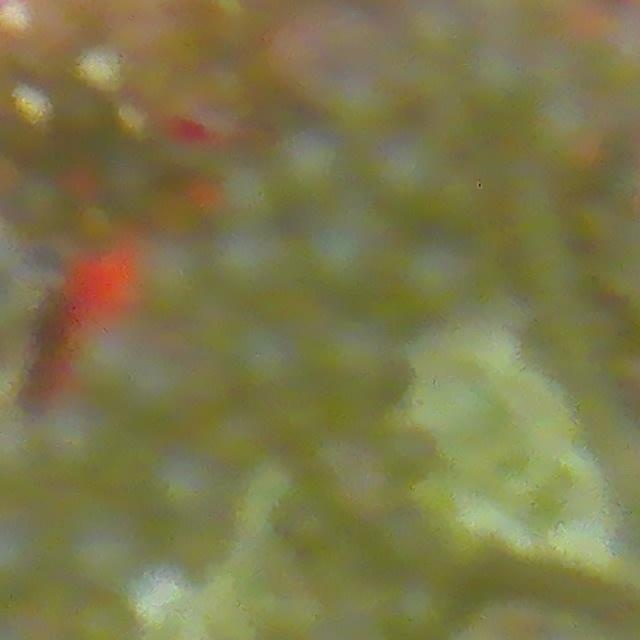SeaGrape: (295, 220, 381, 303), (212, 238, 286, 315), (369, 132, 437, 212), (262, 135, 339, 204), (216, 168, 284, 239), (337, 343, 400, 408), (65, 518, 130, 577), (146, 256, 202, 315), (135, 361, 193, 417), (0, 421, 44, 481), (165, 465, 211, 518), (409, 247, 455, 296)
